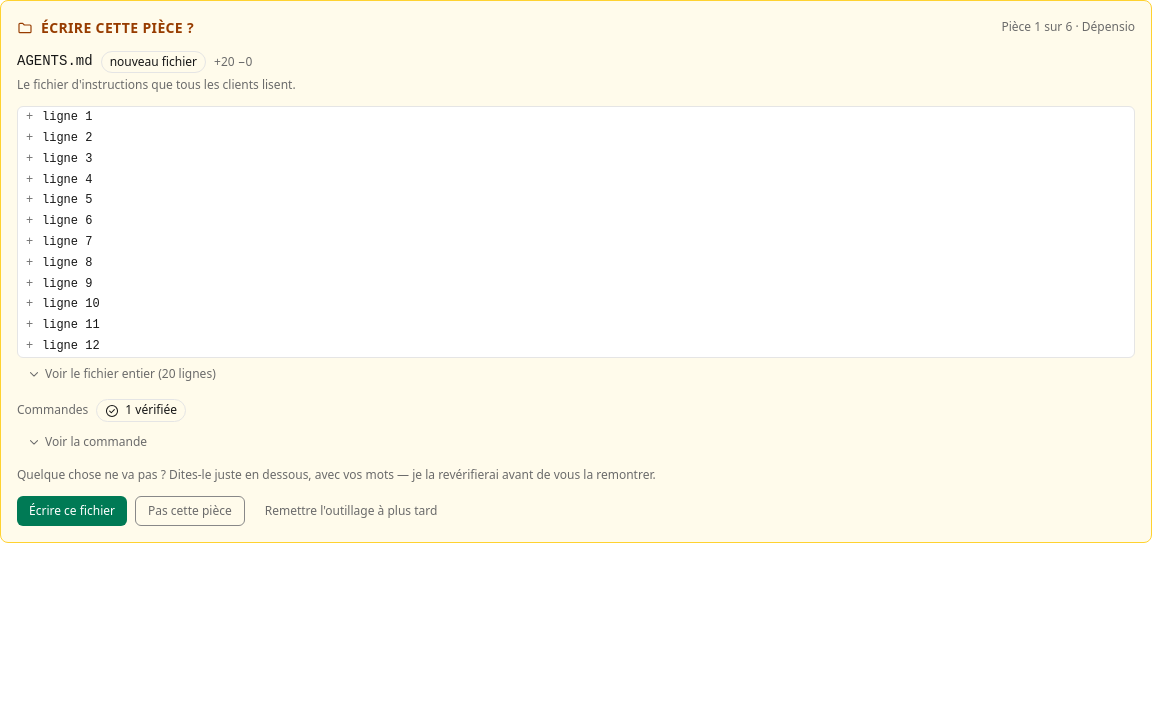
Test: la carte d'une pièce d'outillage › ① un fichier neuf : l'en-tête, le pourquoi, les 12 premières lignes puis le reste
Check: the heading "Écrire cette pièce ?" is shown, box [17, 17, 194, 39]
Check: the text "Pièce 1 sur 6 · Dépensio" is shown, box [1001, 19, 1135, 36]
What coordinates should you click on to do the following:
click the button "Voir le fichier entier (20 lignes)"
I would click on:
 (121, 374)
Its box is [17, 362, 226, 387].
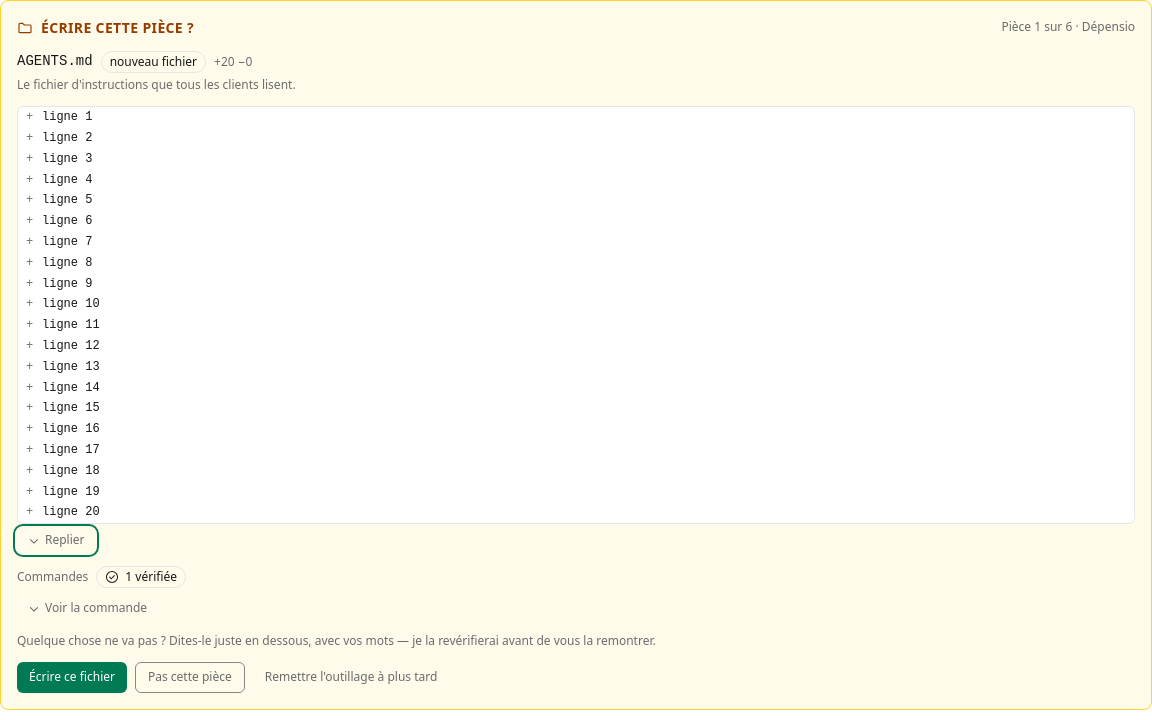
Check: the text "ligne 5" reads "+ ligne 5", box [26, 193, 92, 207]
Check: the text "ligne 20" is shown, box [42, 505, 100, 519]
